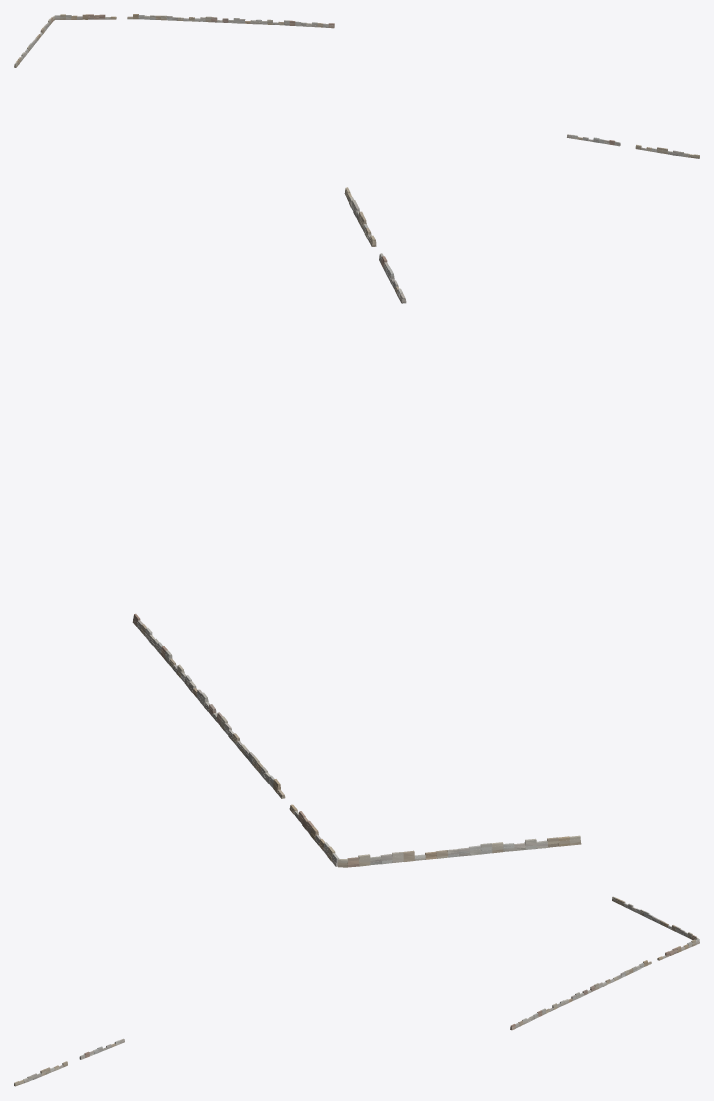
File: farm_-1_0_mid.glb
3 views of the same model, one above another, from view 1: azimuth 30°, elevation 25°; view 2: azimuth 150°, elevation 25°; view 3: azimuth 270°, elevation 25° (orthographic). The views are drawn at different scales.
Parts seen in each view (by area): view 1: geometry_0; view 2: geometry_0; view 3: geometry_0.
Part boxes in pixels (bbox=[...]): geometry_0: bbox=[14, 14, 699, 158]; geometry_0: bbox=[132, 187, 581, 867]; geometry_0: bbox=[14, 896, 699, 1086].
Bounding box in the file's own units: 129 × 8.22 × 181.
